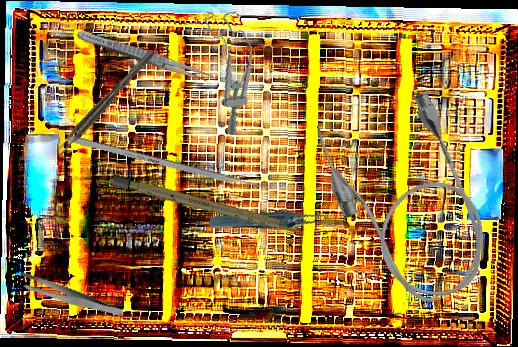Cannula: (305, 79, 508, 321)
Dressing Forceps: (15, 251, 124, 341), (75, 27, 215, 85)
Pusher: (66, 134, 283, 196)
Scalpel Handle: (111, 174, 303, 236)
Speculum: (203, 6, 263, 137)
Tissue Forceps: (53, 48, 159, 158), (208, 190, 337, 256)
